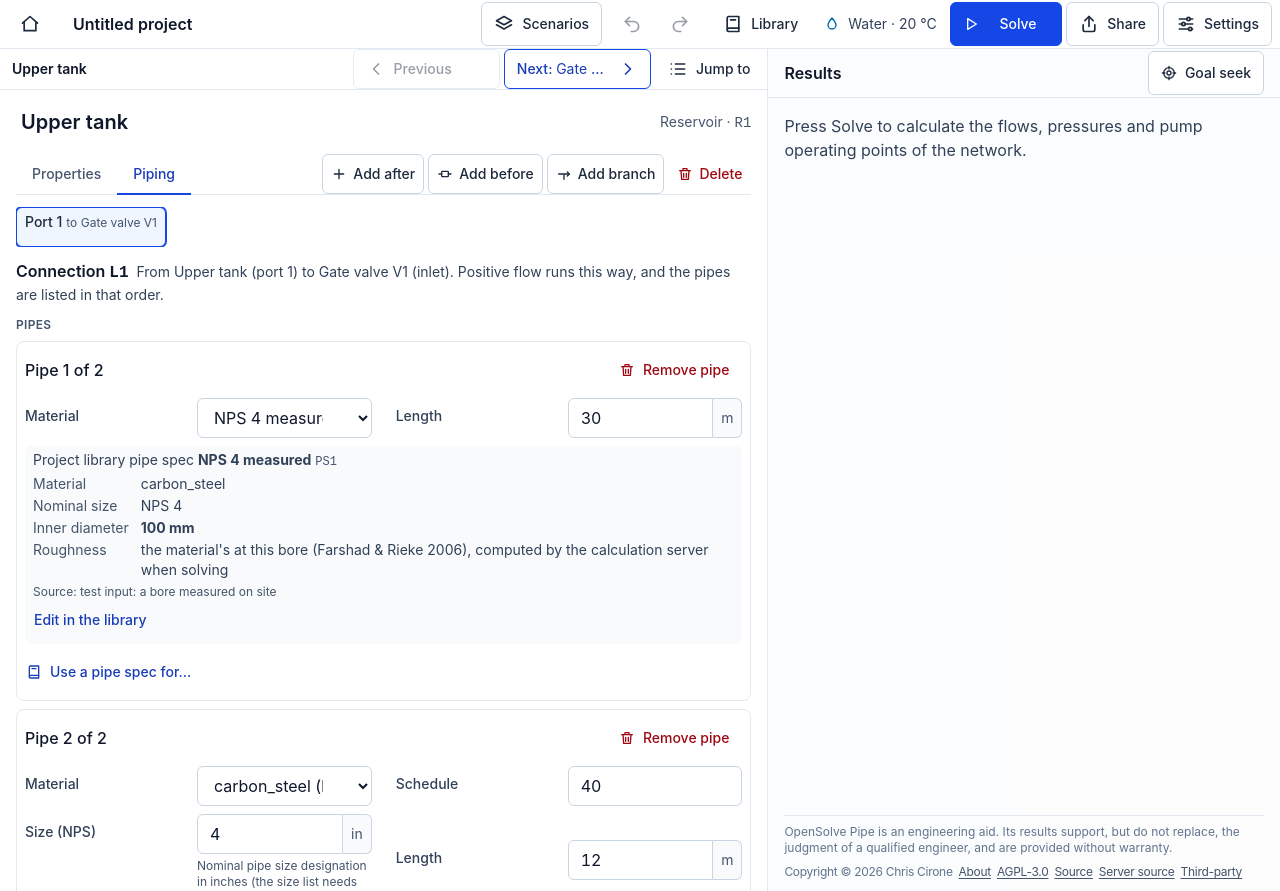
Scenario: PipeSegmentForm with the project library › shows a spec pipe read-only, with its source and a way to the library
Expected: the dropdown labelled "Material" below "Pipe 1 of 2" shows "NPS 4 measured", [197,398,372,438]
Expected: the text "Source: test input: a bore measured on site" is shown, [33,584,276,599]
What coordinates should you click on to do the following:
click the button with aria-label "Edit NPS 4 measured in the library"
I would click on:
 (90, 620)
Its box is [21,600,160,640].
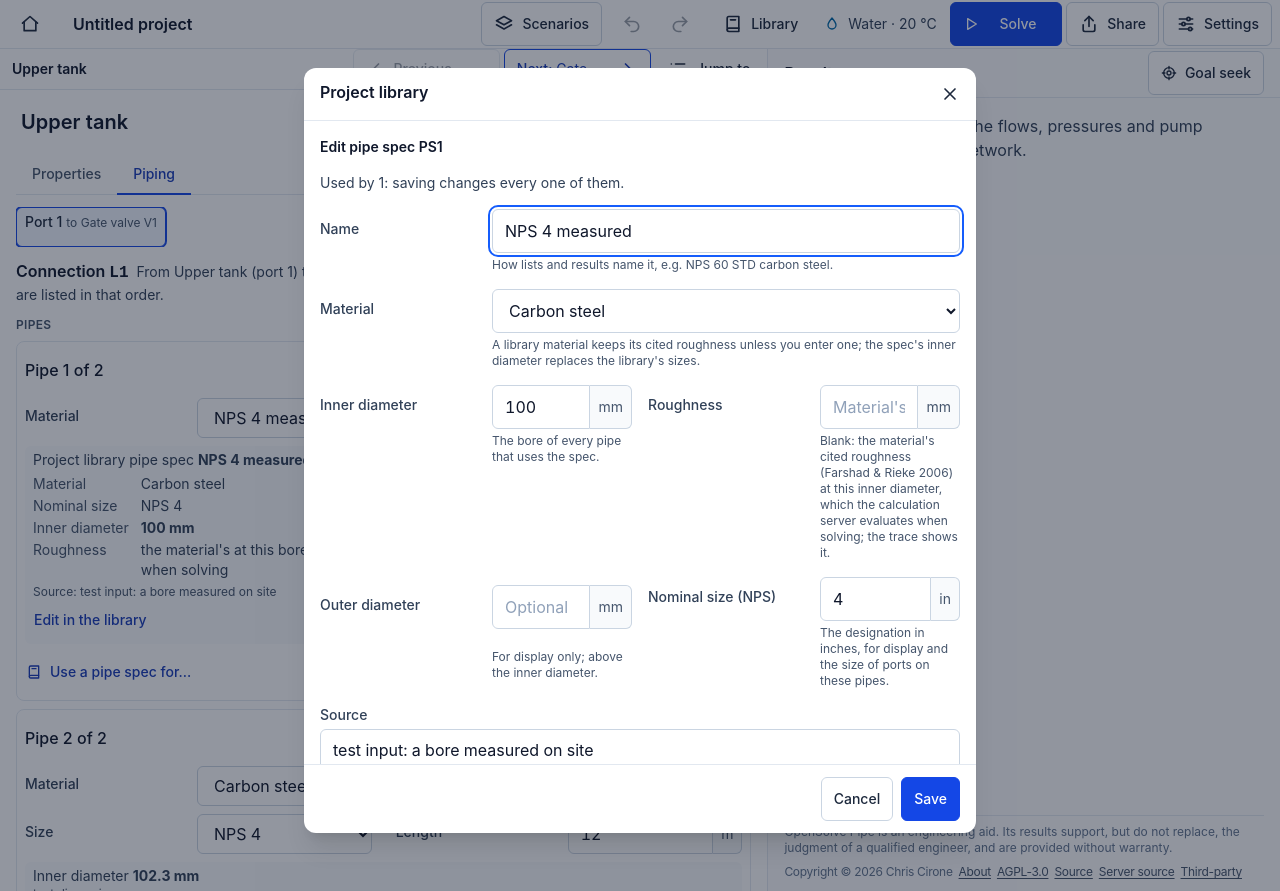
Expected: the element "Edit pipe spec PS1" is shown, [320,136,960,764]
